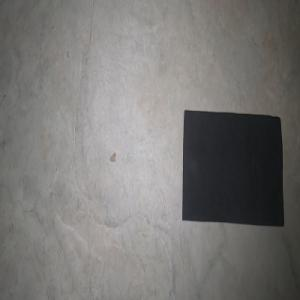PaintChip: (182, 109, 284, 226)
